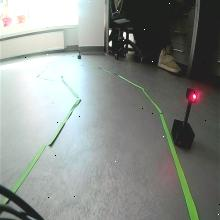red: (185, 86, 198, 104)
